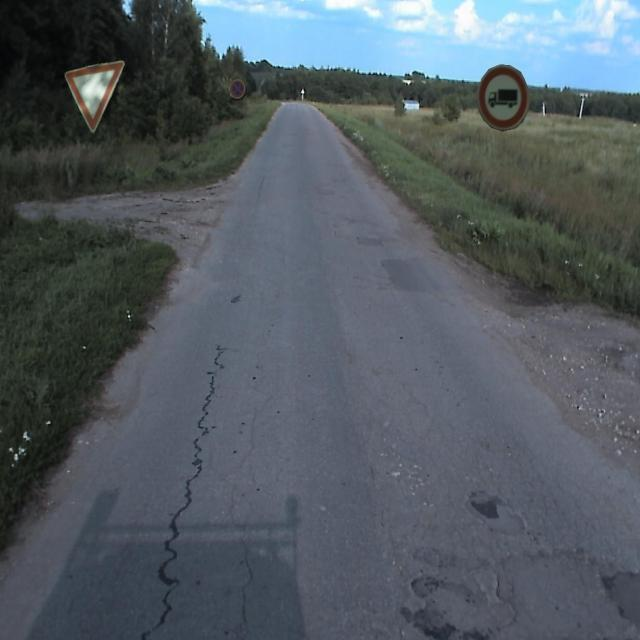road: (0, 103, 639, 639)
